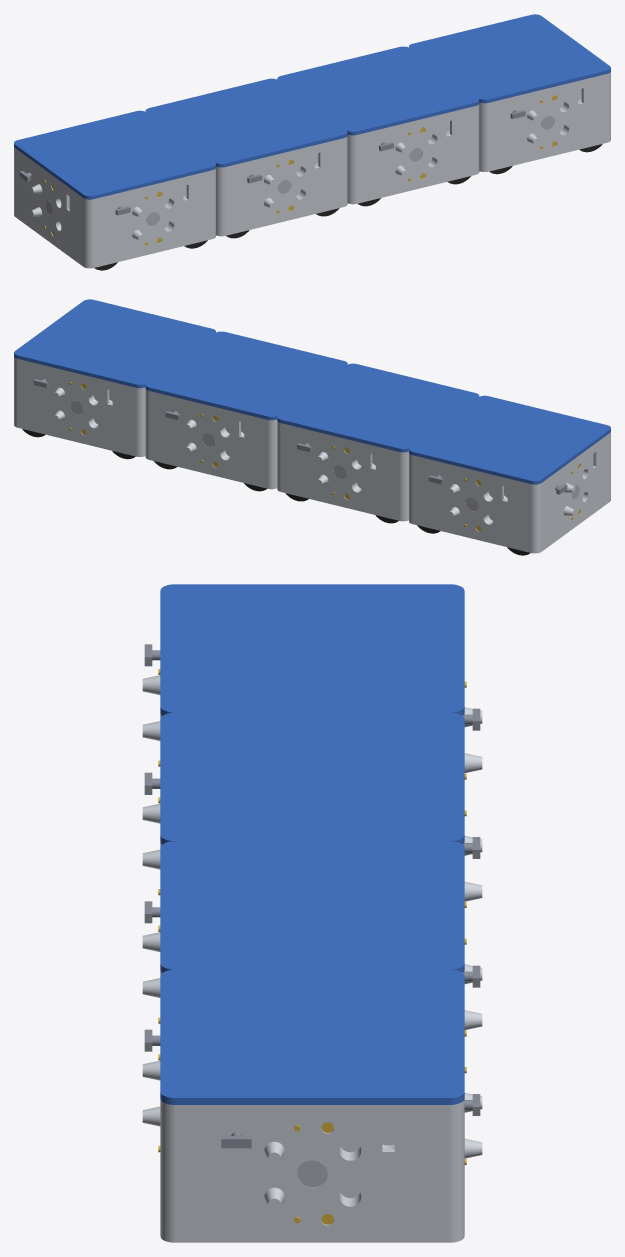
Rendered from cluster_line4.glb.
3 views of the same model, one above another, from view 1: azimuth 30°, elevation 25°; view 2: azimuth 150°, elevation 25°; view 3: azimuth 270°, elevation 25° (orthographic). The views are drawn at different scales.
Parts seen in each view (by area): view 1: lid_1 (×4), body_1 (×4); view 2: lid_1 (×4), body_1 (×4); view 3: lid_1 (×4), body_1 (×4).
Part boxes in pixels (left/top/right/bottom): lid_1 (×4): left=14, top=14, right=610, bottom=199; body_1 (×4): left=14, top=72, right=610, bottom=268; lid_1 (×4): left=14, top=299, right=610, bottom=484; body_1 (×4): left=14, top=357, right=610, bottom=553; lid_1 (×4): left=160, top=584, right=464, bottom=1104; body_1 (×4): left=142, top=675, right=482, bottom=1242.
Bounding box in the file's own units: 0.494 × 0.069 × 0.134.
